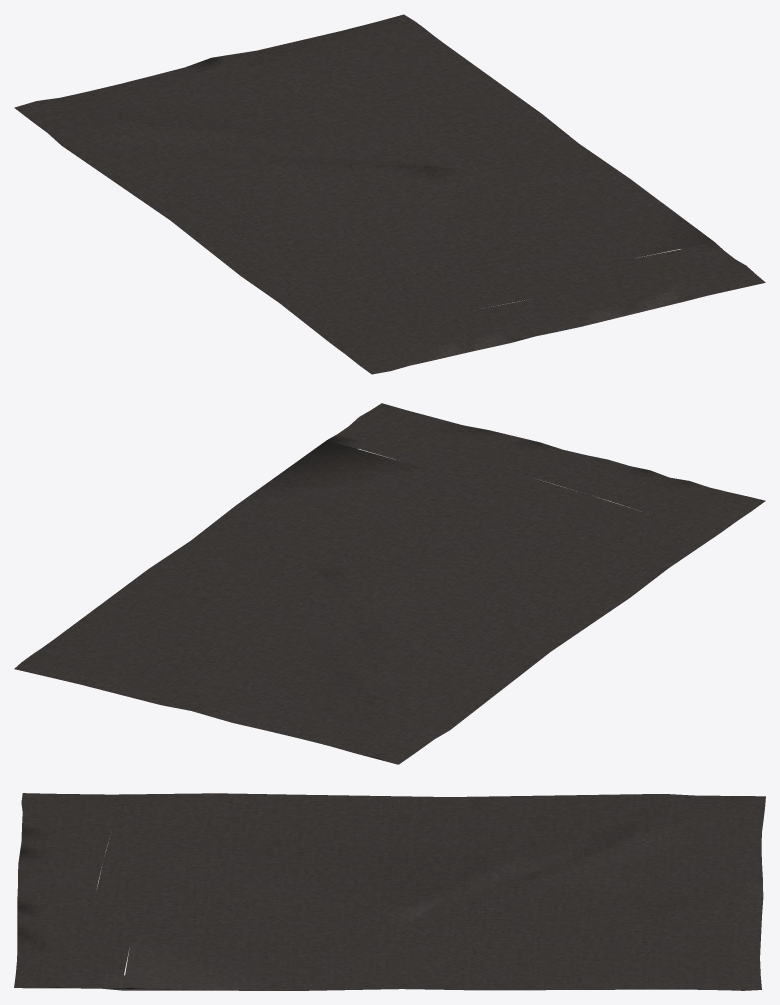
The model's file is Carpet0023.obj.
3 views of the same model, one above another, from view 1: azimuth 30°, elevation 25°; view 2: azimuth 150°, elevation 25°; view 3: azimuth 270°, elevation 25° (orthographic). The views are drawn at different scales.
Bounding box in the file's own units: 1.88 × 0.036 × 3.03.
Materials: 1 (1 with a texture image).
